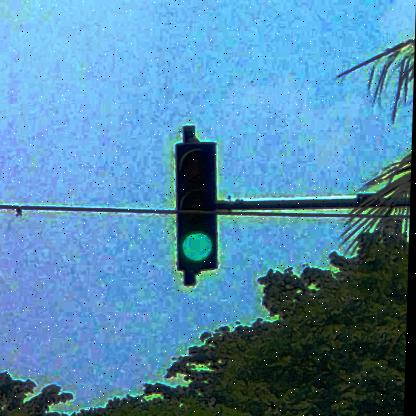Traffic Light -Green-: (174, 145, 221, 270)
